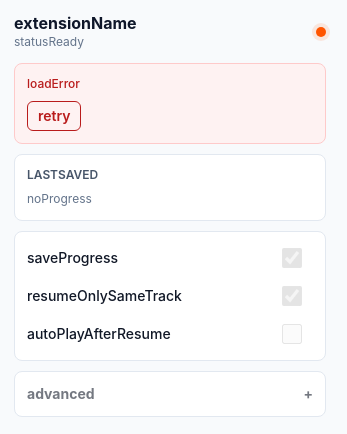
Test: Popup › shows a retry banner when storage load fails and recovers on retry
This screenshot has width=347, height=434.
Check: the text "loadError" is shown, box [27,76,80,91]
Click the button "retry".
click(54, 116)  # box [27,101,82,131]
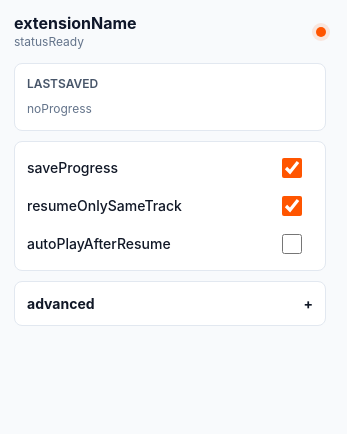
Check: the text "loadError" is gone
Check: the checkbox labelled "saveProgress" is enabled, box [274,158,310,178]
